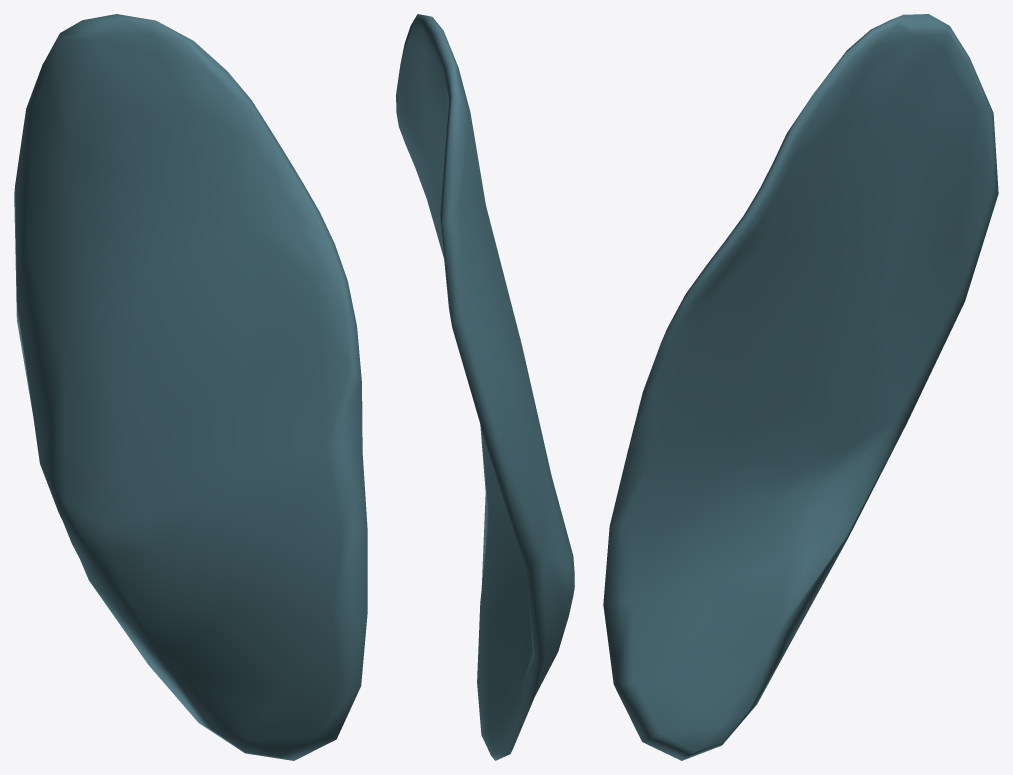
Rendered from Biceps_brachii_muscle-Radial_insertion.l_Generated_Mesh_From_X3.glb.
3 renders of one model, left to right at view 1: azimuth 30°, elevation 25°; view 2: azimuth 150°, elevation 25°; view 3: azimuth 270°, elevation 25°, orthographic. The views are drawn at different scales.
Parts seen in each view (by area): view 1: Biceps_brachii_muscle-Radial_insertion.l_Generated_Mesh_From; view 2: Biceps_brachii_muscle-Radial_insertion.l_Generated_Mesh_From; view 3: Biceps_brachii_muscle-Radial_insertion.l_Generated_Mesh_From.
Boxes of the visible parts, x1,y1,x2,y2 form: Biceps_brachii_muscle-Radial_insertion.l_Generated_Mesh_From: (14,14,367,760); Biceps_brachii_muscle-Radial_insertion.l_Generated_Mesh_From: (396,14,574,760); Biceps_brachii_muscle-Radial_insertion.l_Generated_Mesh_From: (603,14,998,760).
Bounding box in the file's own units: 0.00728 × 0.023 × 0.0116.
